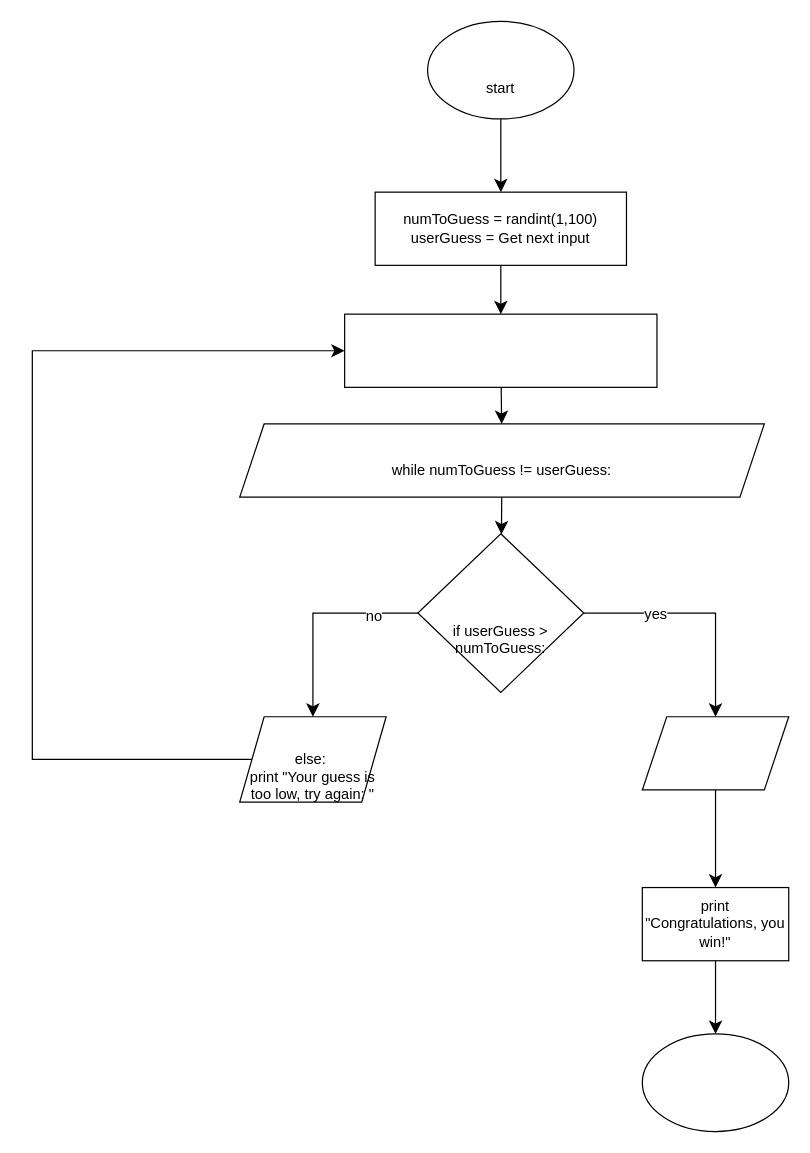
This 810x1153 diagram has some shape labels left out. The shapes that lost their labels are listed below. From the top down, each one's box as (x1, y1, x2, y2) in pixels, then its label:
(343, 313, 657, 387): userGuess = "Please enter a number between 1 - 100: ")
(641, 716, 789, 790): print "Your guess is too high, try again: "
(641, 1033, 789, 1132): end
